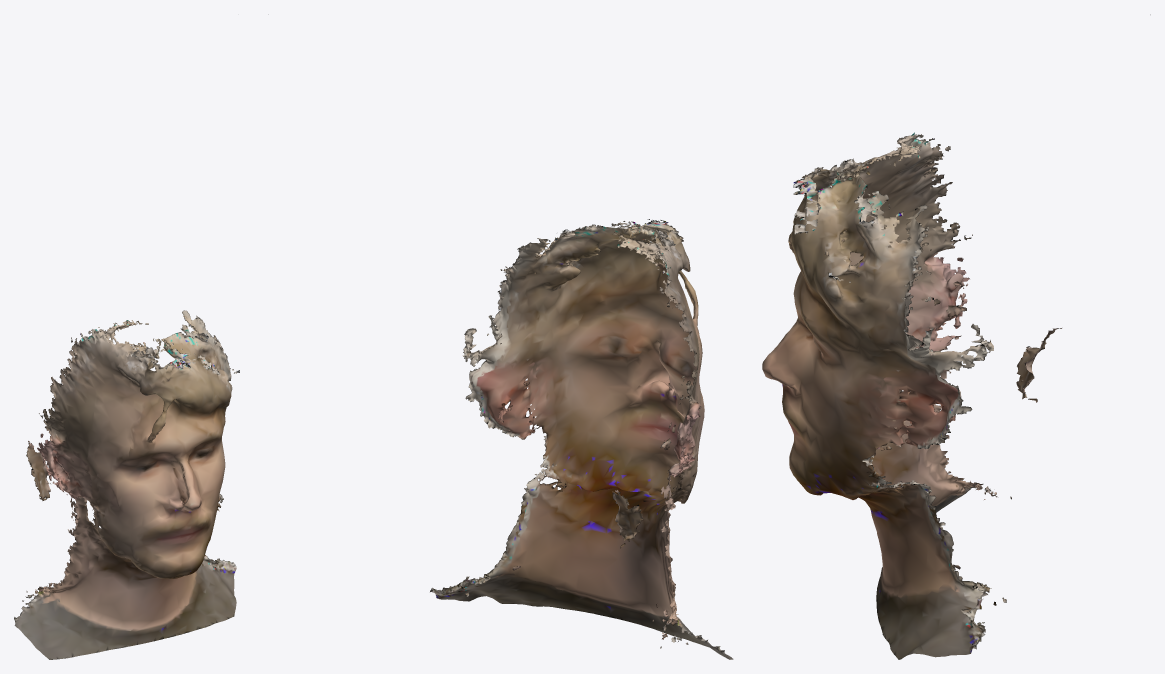
File: me-camera.glb
3 renders of one model, left to right at view 1: azimuth 30°, elevation 25°; view 2: azimuth 150°, elevation 25°; view 3: azimuth 270°, elevation 25°, orthographic. The views are drawn at different scales.
Visible parts, largest first — view 1: Mesh_0; view 2: Mesh_0; view 3: Mesh_0.
Boxes of the visible parts, x1,y1,x2,y2 form: Mesh_0: [14, 310, 239, 659]; Mesh_0: [268, 14, 733, 659]; Mesh_0: [762, 14, 1150, 659].
Bounding box in the file's own units: 2.77 × 4.63 × 2.29.
